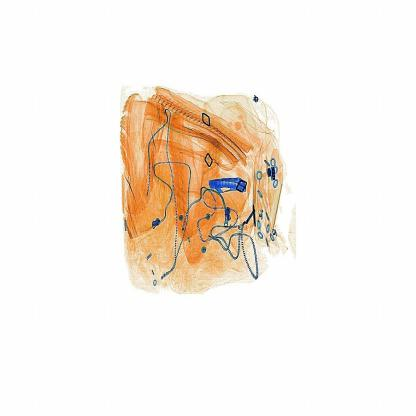knife: (203, 170, 247, 198)
